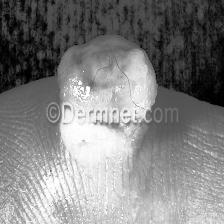Benign Marking or Mole: (52, 30, 159, 169)
